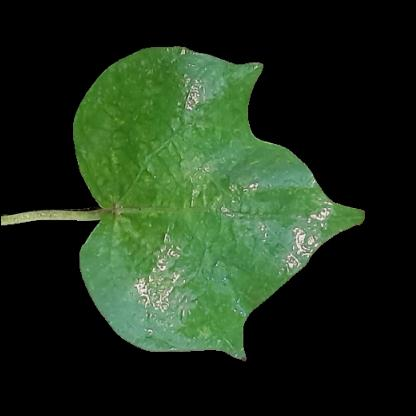healthy: (100, 152, 269, 281), (117, 249, 245, 345), (102, 60, 226, 153), (241, 172, 312, 264)
